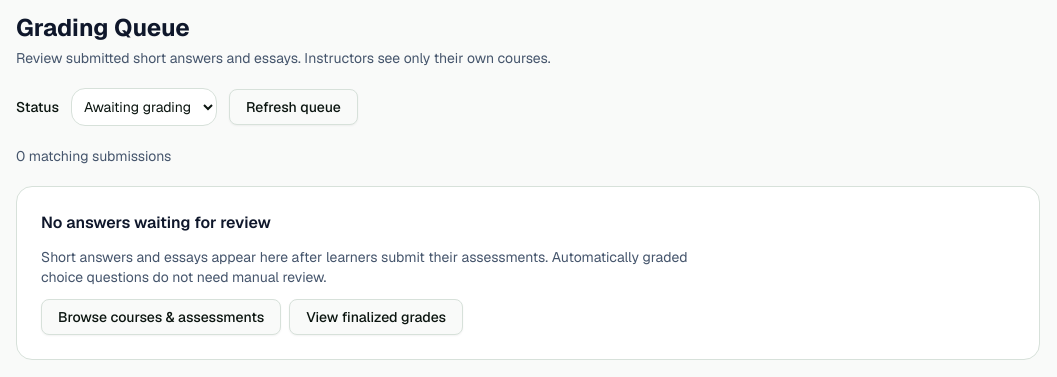
Test case: explains an empty queue and provides working next steps without single-page controls
Expected: the heading "No answers waiting for review" is shown, [41,212,271,233]
Expected: the text "Short answers and essays appear here" is shown, [41,248,688,286]
Click the button "View finalized grades".
click(376, 317)  # box [289,299,463,335]
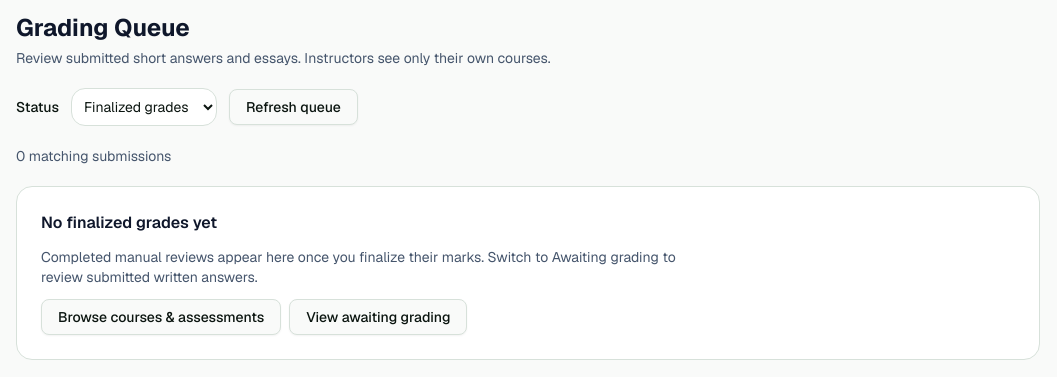
Result: the dropdown labelled "Status" shows "Finalized grades" at [71,88,217,126]
Result: the heading "No finalized grades yet" is shown at [41,212,217,233]
